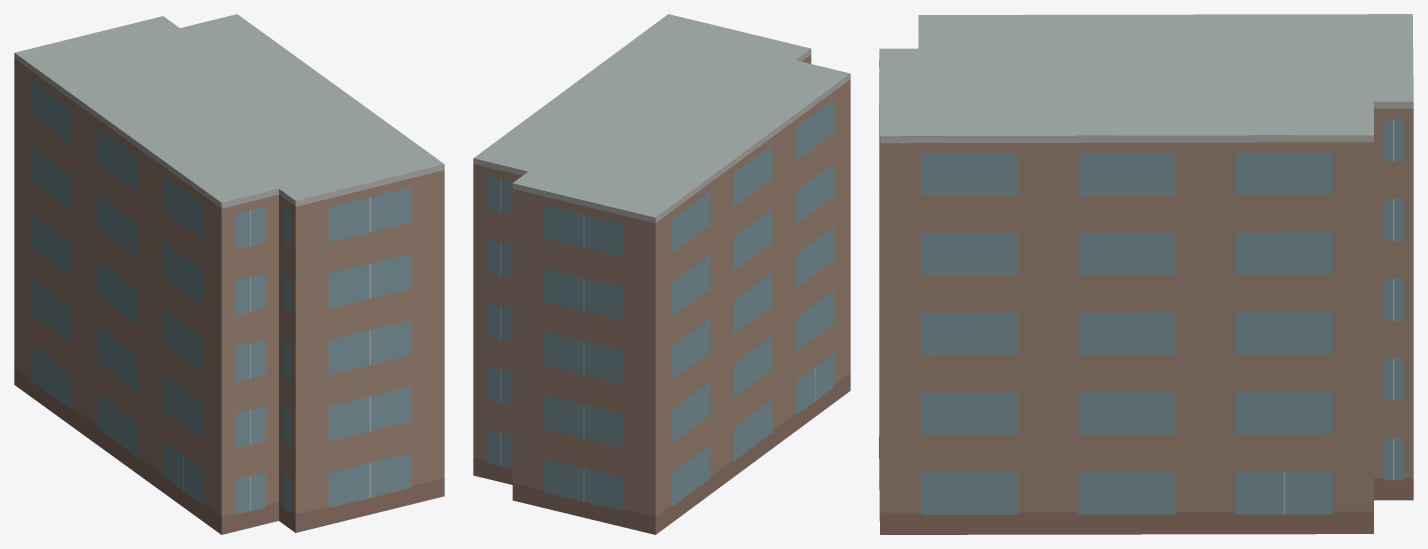
File: survey-upis-32606560.glb
3 views of the same model, side by side, from view 1: azimuth 30°, elevation 25°; view 2: azimuth 150°, elevation 25°; view 3: azimuth 270°, elevation 25° (orthographic). The views are drawn at different scales.
Parts seen in each view (by area): view 1: survey-upis-32606560.tmp; view 2: survey-upis-32606560.tmp; view 3: survey-upis-32606560.tmp.
Boxes of the visible parts, x1,y1,x2,y2 form: survey-upis-32606560.tmp: [14, 14, 444, 534]; survey-upis-32606560.tmp: [473, 14, 850, 534]; survey-upis-32606560.tmp: [879, 14, 1413, 534].
Size of the model in its own units: 9.08 by 13.8 by 16.78.
